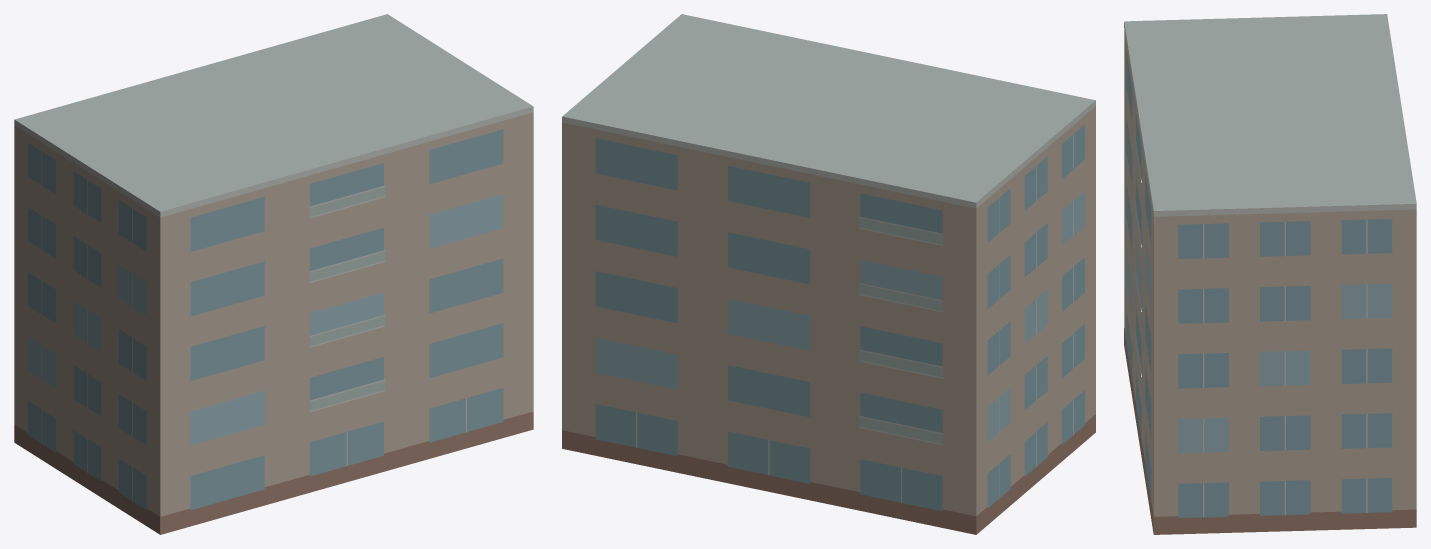
File: survey-upis-32757652.glb
The picture shows the model from 3 angles, left to right: view 1: azimuth 30°, elevation 25°; view 2: azimuth 150°, elevation 25°; view 3: azimuth 270°, elevation 25°; orthographic projection. The views are drawn at different scales.
Visible parts, largest first — view 1: survey-upis-32757652.tmp; view 2: survey-upis-32757652.tmp; view 3: survey-upis-32757652.tmp.
Part boxes in pixels (x1,y1,x2,y2): survey-upis-32757652.tmp: (14,14,533,534); survey-upis-32757652.tmp: (562,14,1095,534); survey-upis-32757652.tmp: (1124,14,1416,534).
Size of the model in its own units: 17.89 by 13.7 by 11.23.
